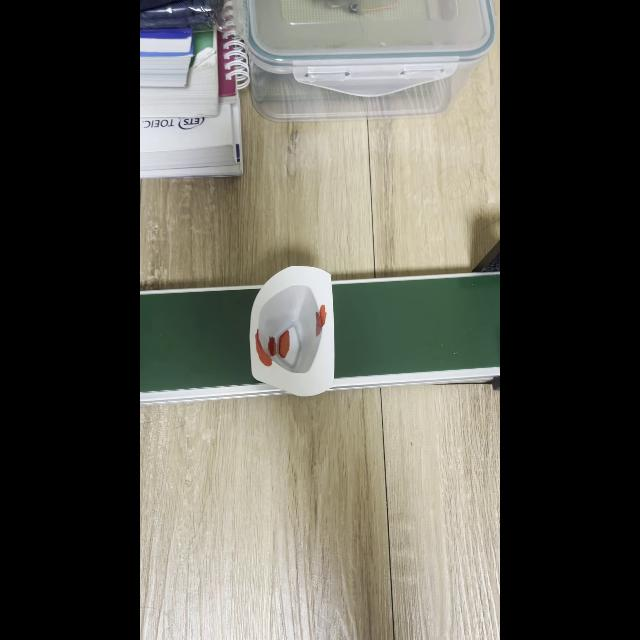dirty: (249, 266, 335, 394)
